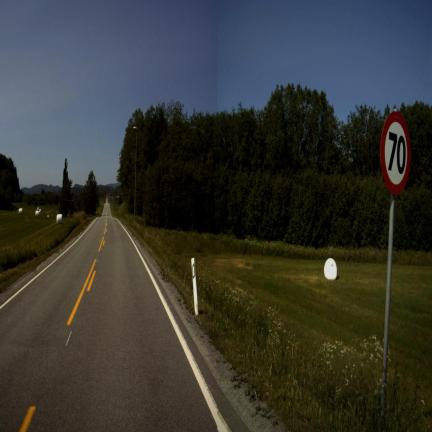Road: (0, 205, 244, 430)
